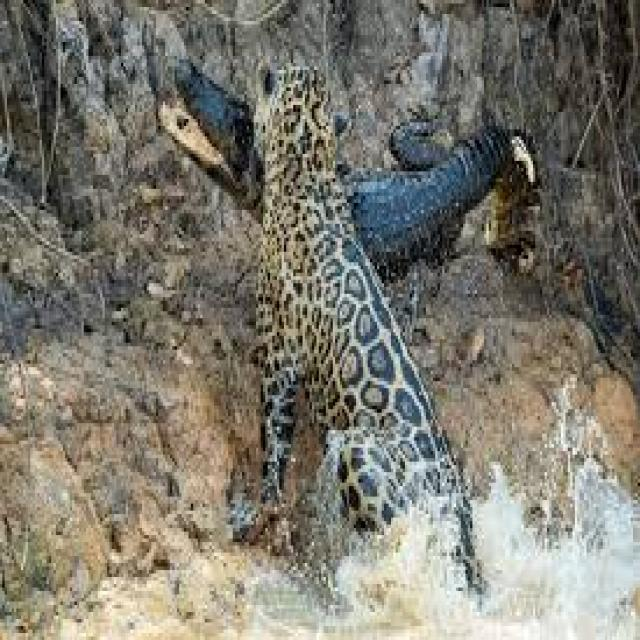Jaguar: (256, 49, 433, 605)
